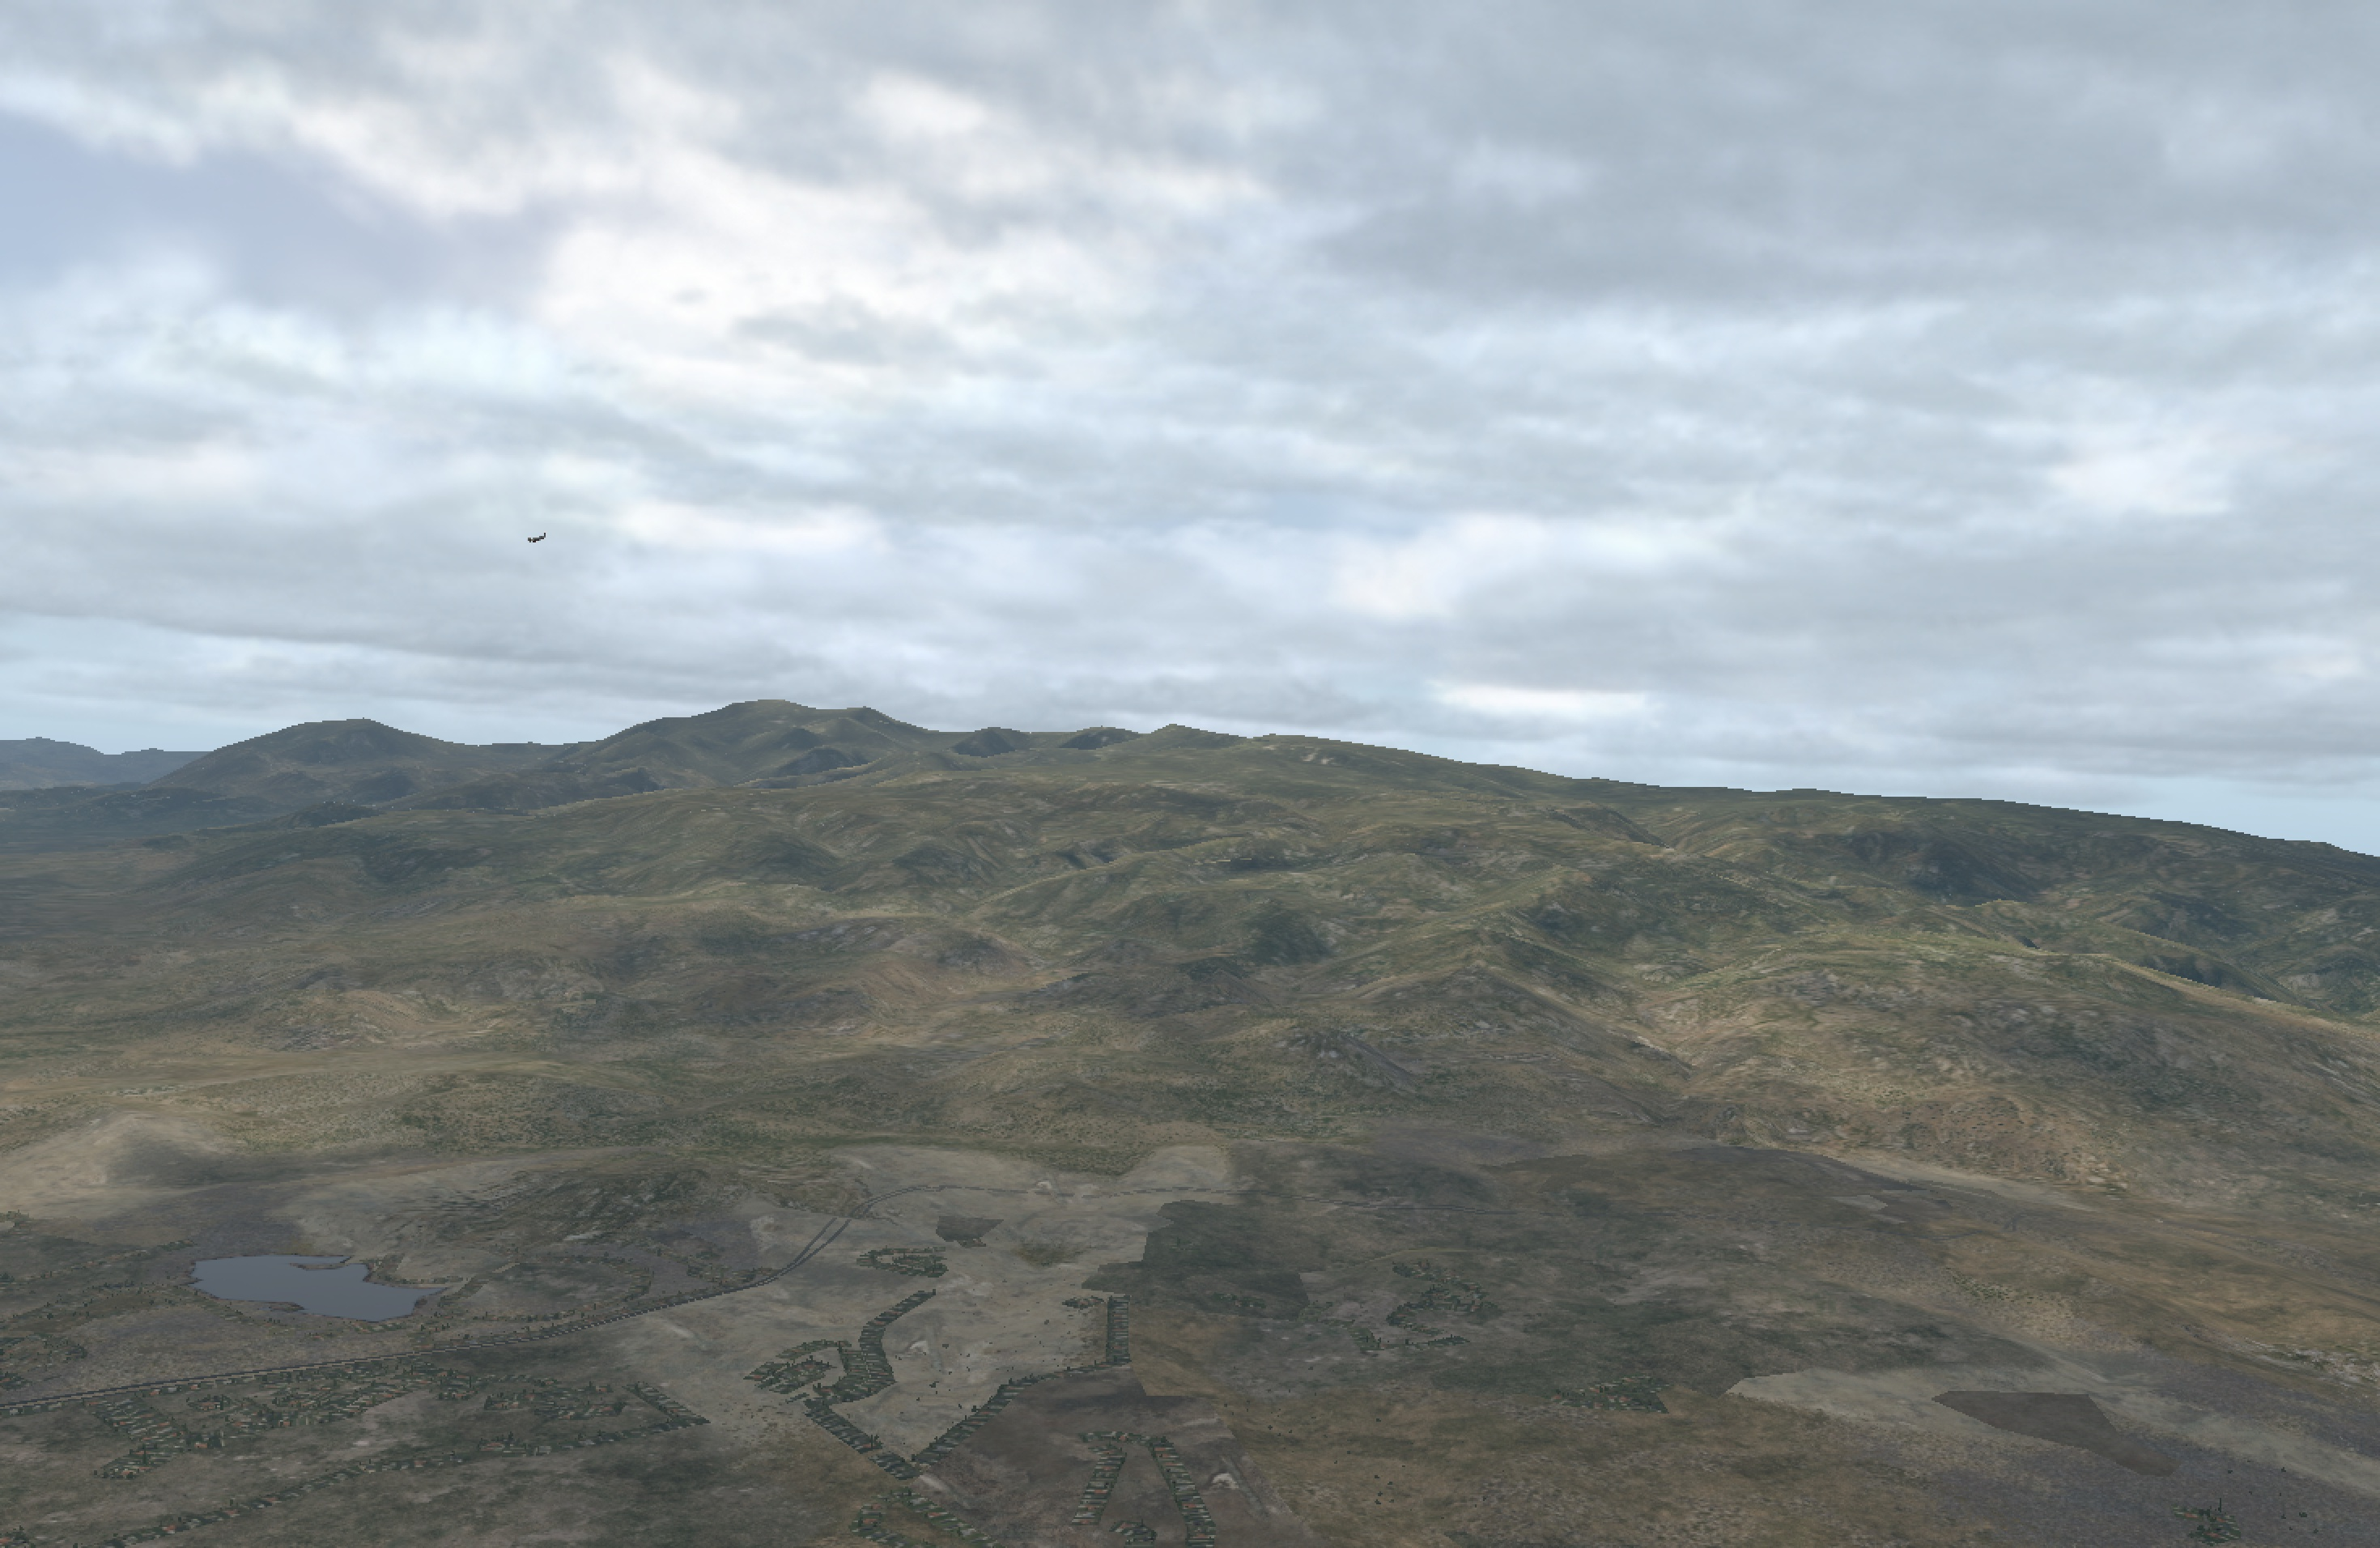aircraft: (520, 535, 550, 547)
